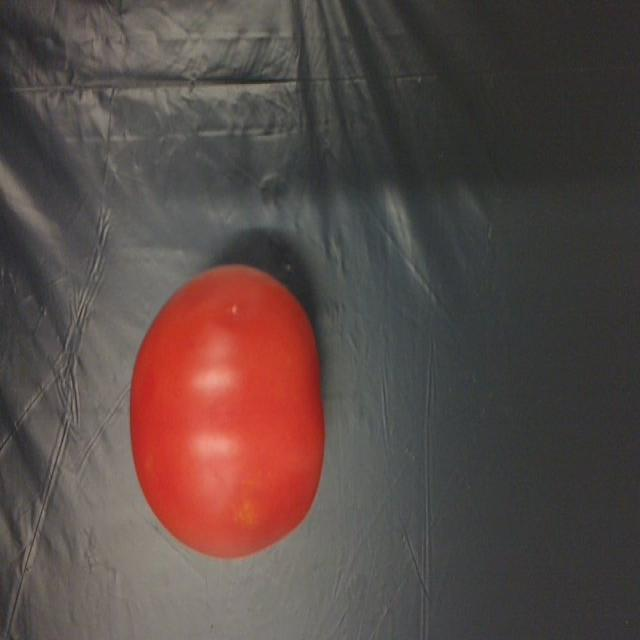kirmizi: (125, 248, 342, 562)
